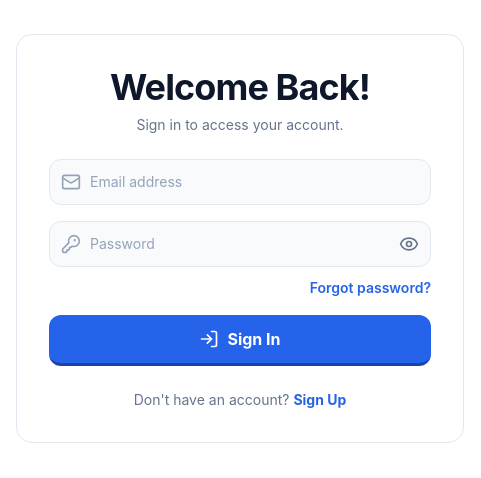
Test: LoginPage › tells a rate limited user to wait rather than blaming their password
Type "someone@mathly.local" into the field with id "email". click: (240, 182)
box: left=49, top=159, right=431, bottom=205
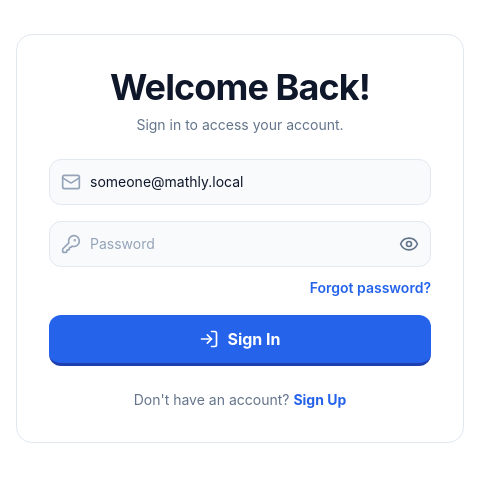
Type "hunter2222" into the password field with placeholder "Password". click: (240, 244)
box: left=49, top=221, right=431, bottom=267
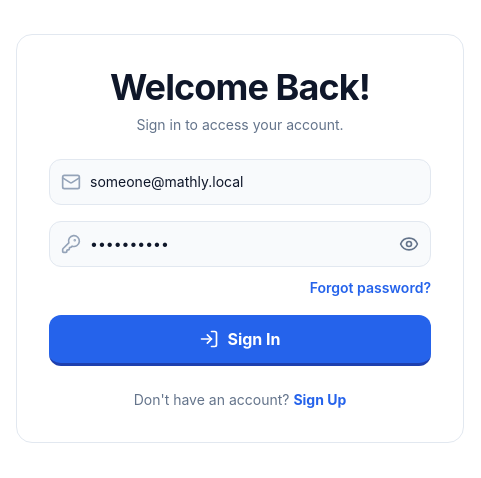
Submit the form, box left=49, top=159, right=431, bottom=366
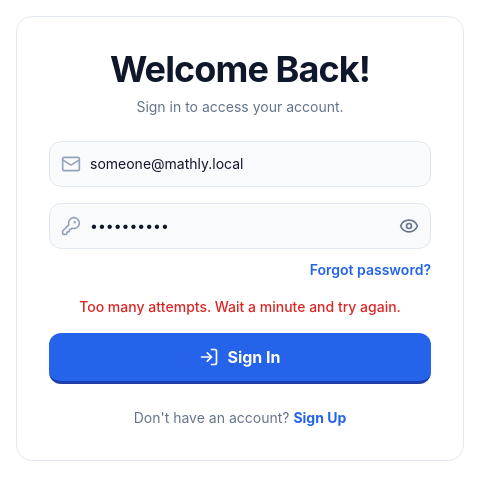
Check: the text "Too many attempts. Wait a minute and try again." is shown, box left=79, top=298, right=401, bottom=315
